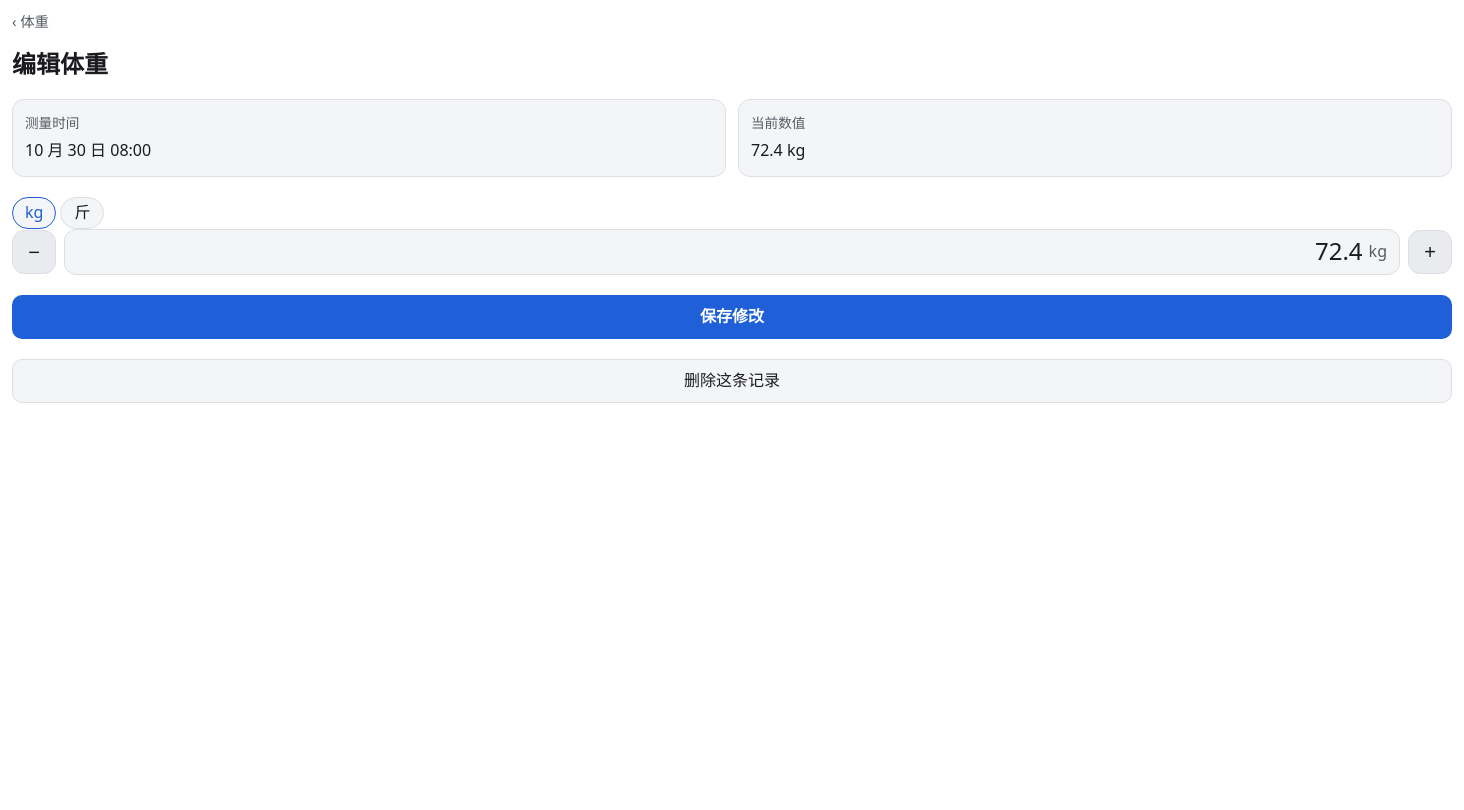
编辑页 › 确认后记录从明细消失，库中保留墓碑
Check: the text "测量时间" is shown, box 25,113 -> 79,132
Click the button "删除这条记录".
click(732, 380)  # box 12,358 -> 1452,402
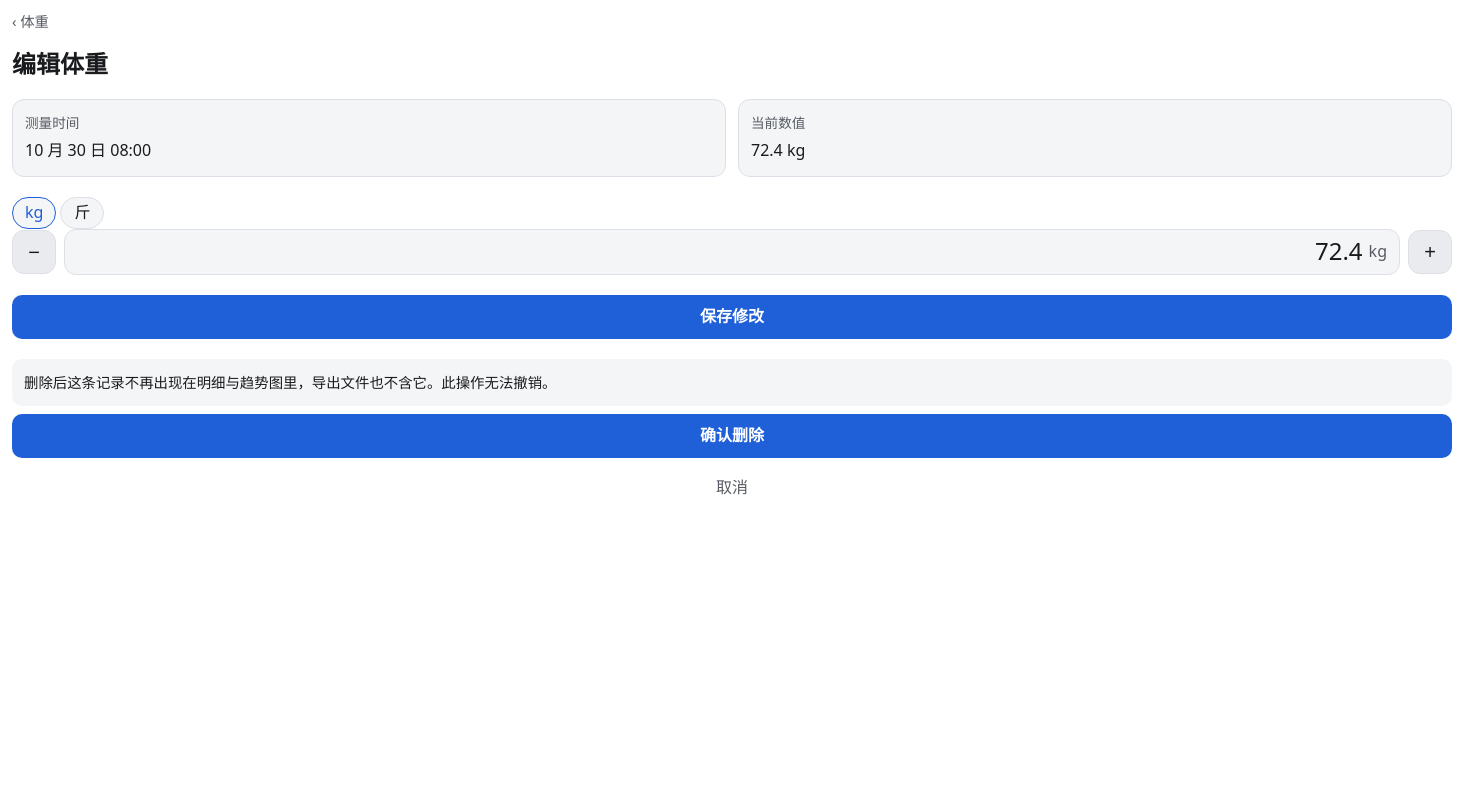
Click the button "确认删除".
click(732, 436)  # box 12,414 -> 1452,458
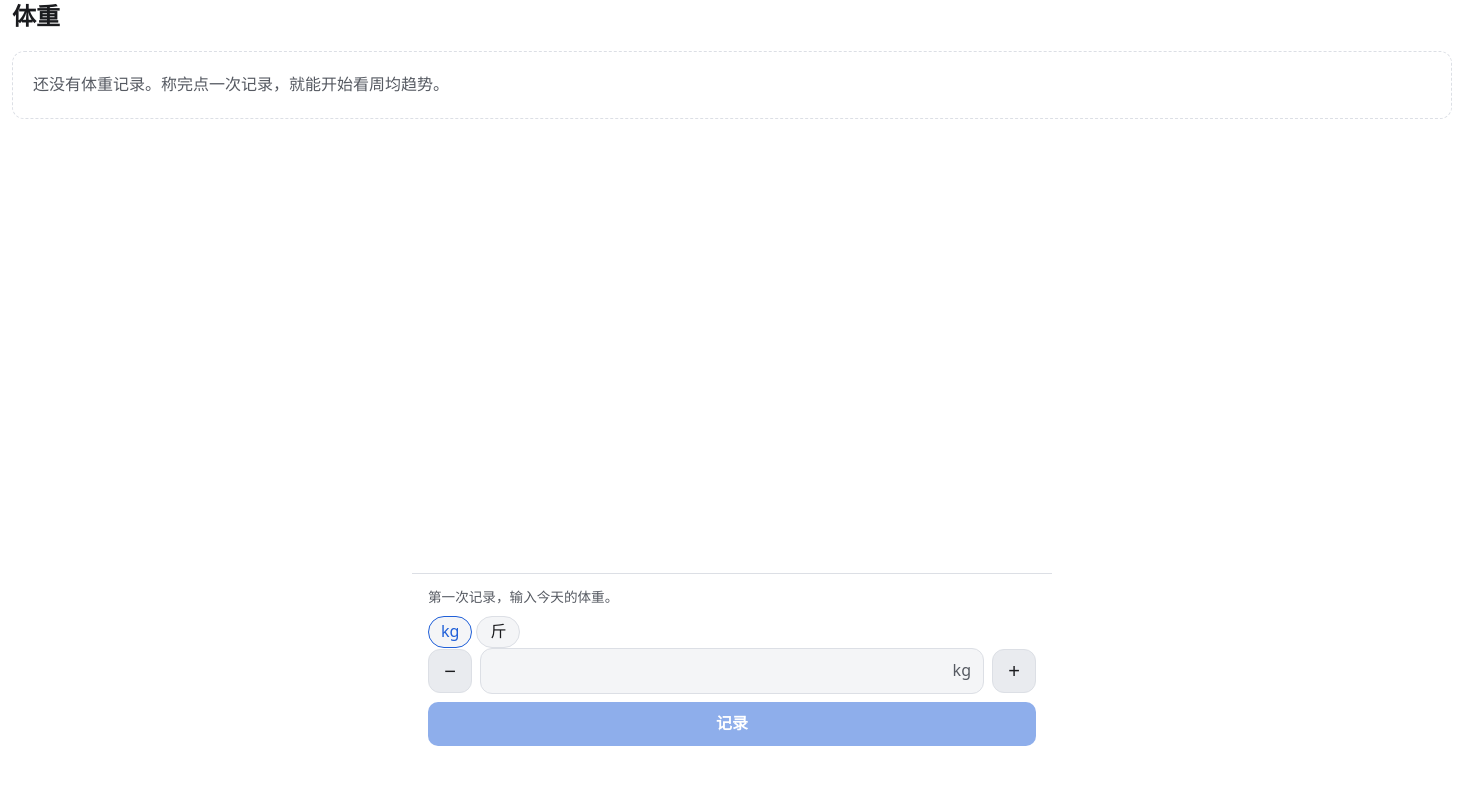
Check: the text "还没有体重记录。称完点一次记录，就能开始看周均趋势。" is shown, box 33,72 -> 449,98
